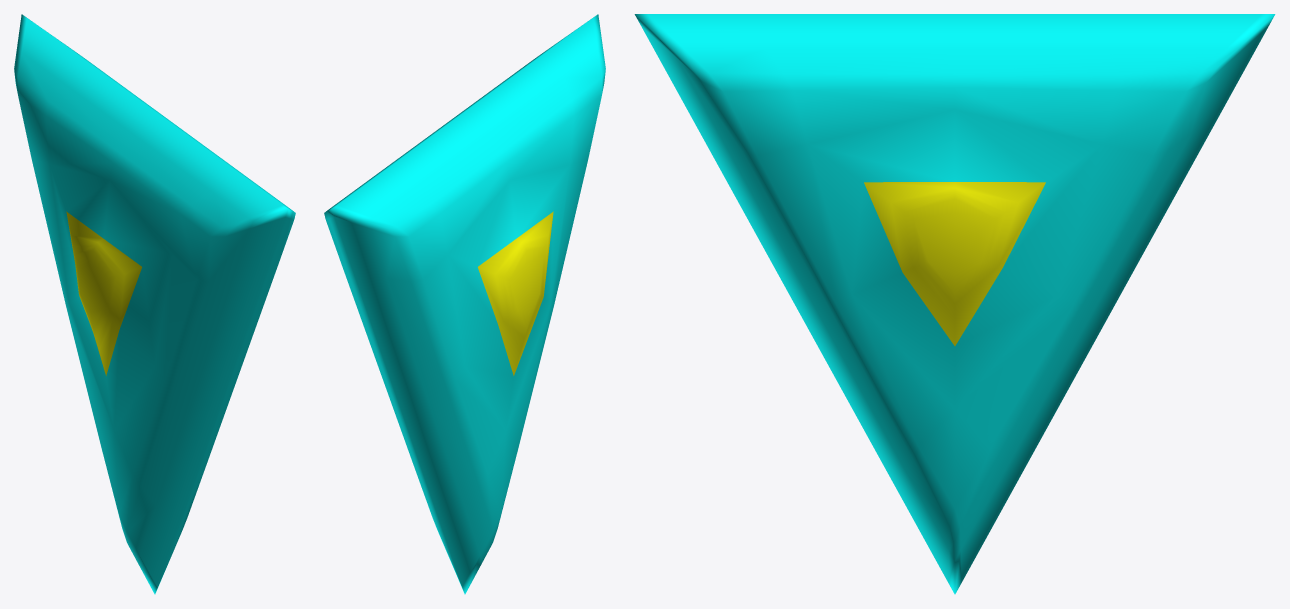
File: mega man coin.fbx
3 views of the same model, side by side, from view 1: azimuth 30°, elevation 25°; view 2: azimuth 150°, elevation 25°; view 3: azimuth 270°, elevation 25° (orthographic). The views are drawn at different scales.
Parts seen in each view (by area): view 1: Cube; view 2: Cube; view 3: Cube.
Boxes of the visible parts, x1=… form: Cube: x1=14, y1=14, x2=295, y2=594; Cube: x1=324, y1=14, x2=605, y2=594; Cube: x1=634, y1=14, x2=1275, y2=594.
Bounding box in the file's own units: 74.28 × 264 × 264.
